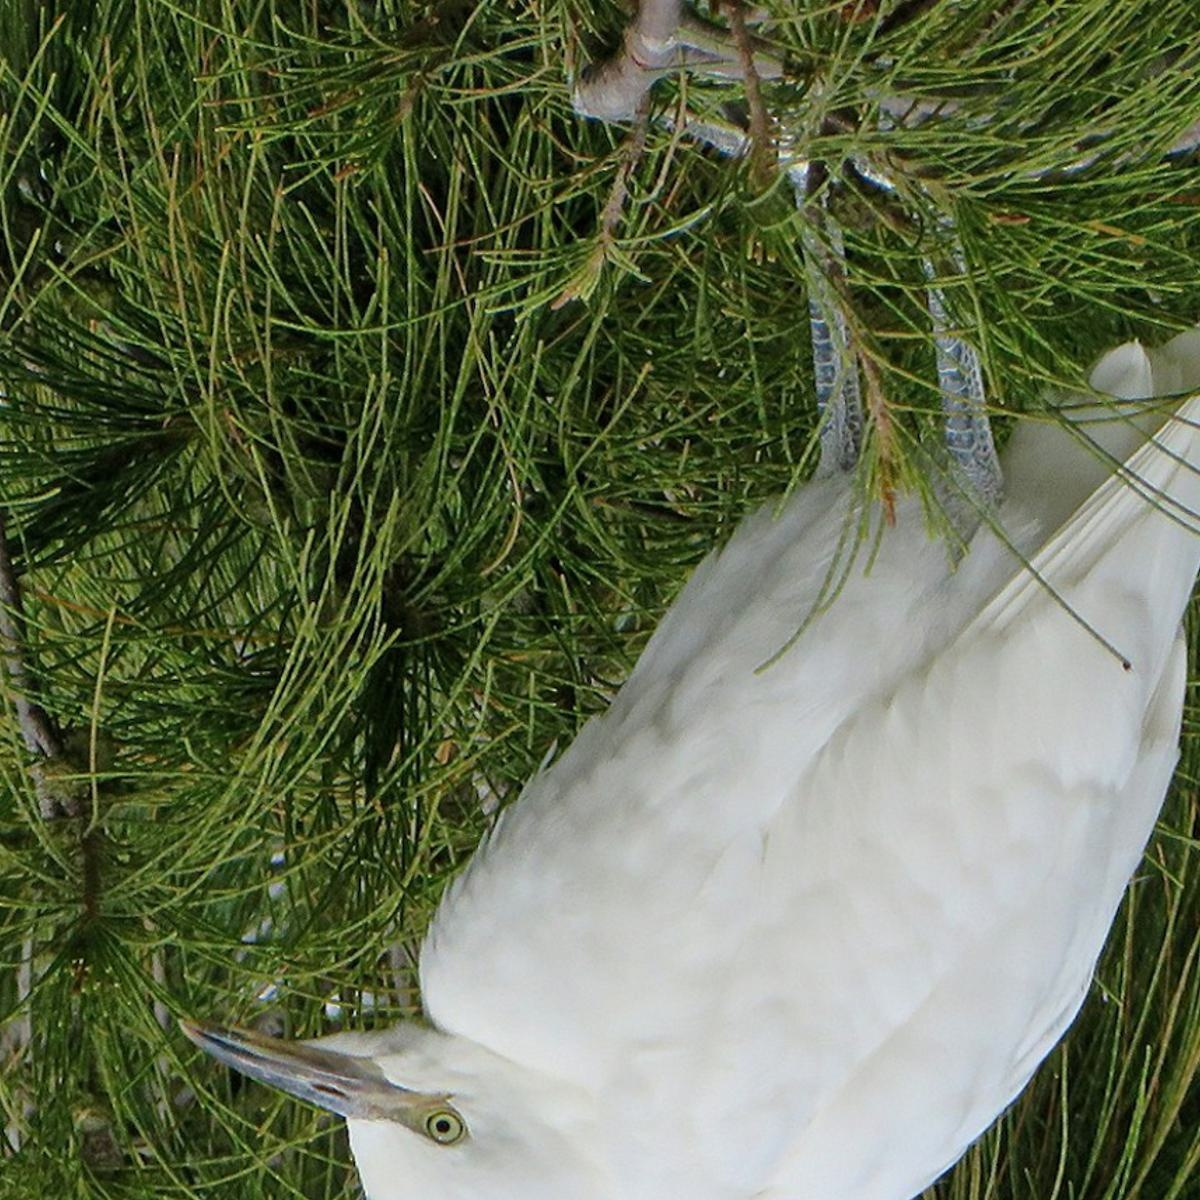egret: (219, 416, 1200, 1195)
